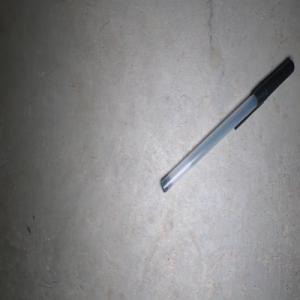Pen: (160, 59, 294, 192)
